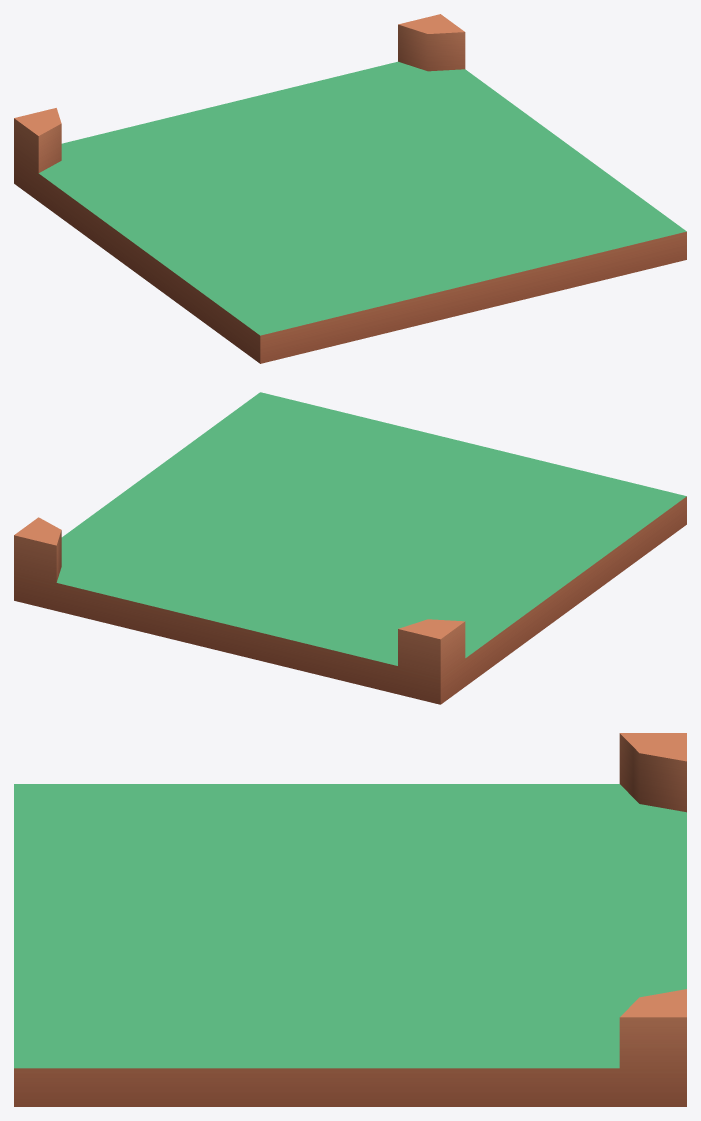
Rendered from walls-to-open.glb.
3 renders of one model, top to bottom at view 1: azimuth 30°, elevation 25°; view 2: azimuth 150°, elevation 25°; view 3: azimuth 270°, elevation 25°, orthographic. The views are drawn at different scales.
Parts seen in each view (by area): view 1: walls-to-open; view 2: walls-to-open; view 3: walls-to-open.
Part boxes in pixels (left/top/right/bottom): walls-to-open: left=14, top=14, right=686, bottom=363; walls-to-open: left=14, top=392, right=686, bottom=704; walls-to-open: left=14, top=733, right=686, bottom=1106.
Size of the model in its own units: 0.9999 by 0.1467 by 0.9999.
1 material, 1 textured.
